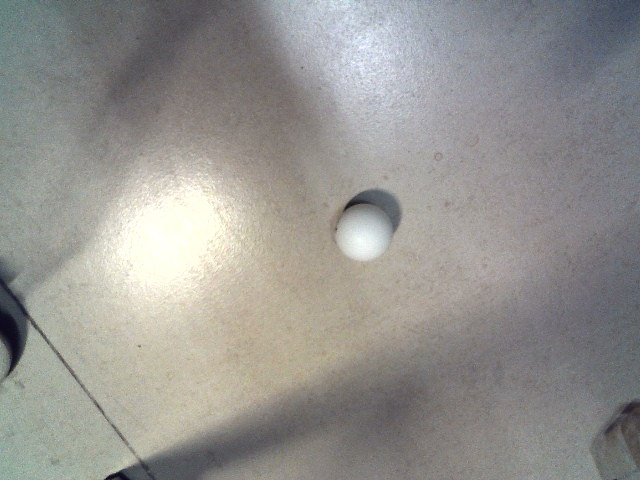pingpong: (334, 204, 394, 261)
